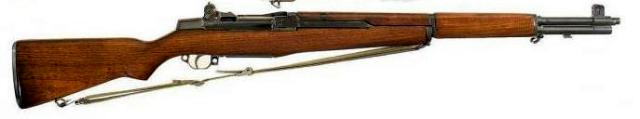rifle: (13, 2, 621, 110)
